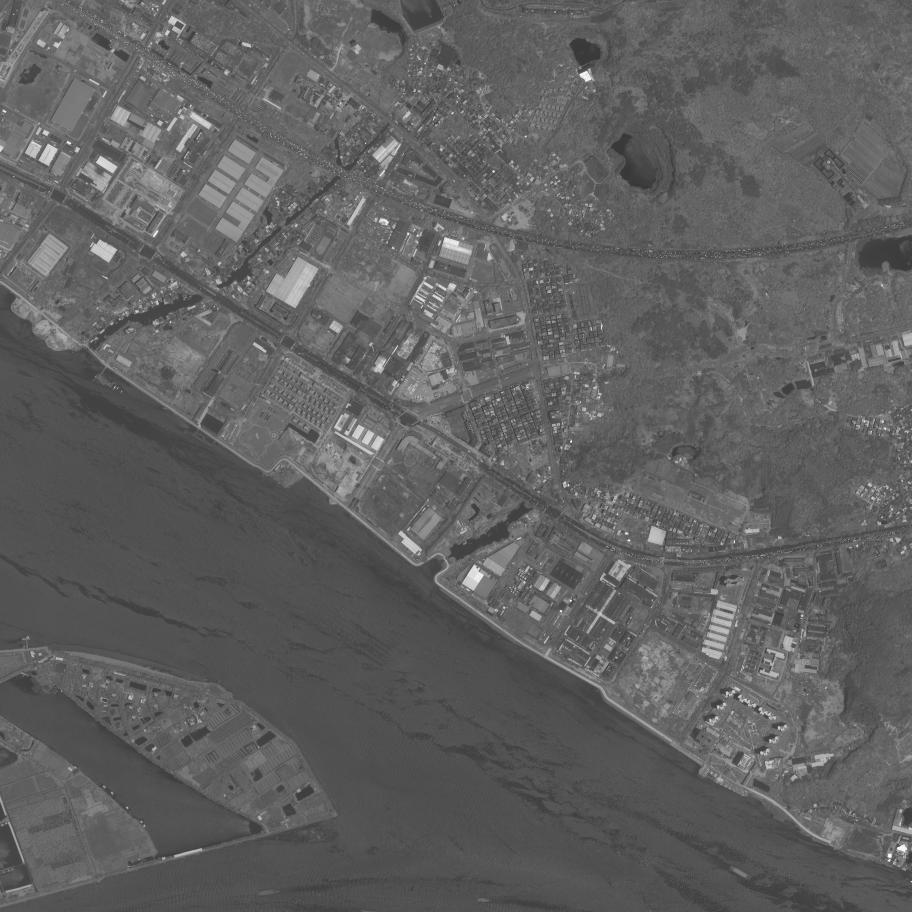ship: (729, 865, 753, 882), (255, 889, 281, 897), (91, 371, 101, 383), (476, 897, 493, 904), (112, 385, 117, 390), (120, 390, 123, 394), (116, 387, 119, 390)
